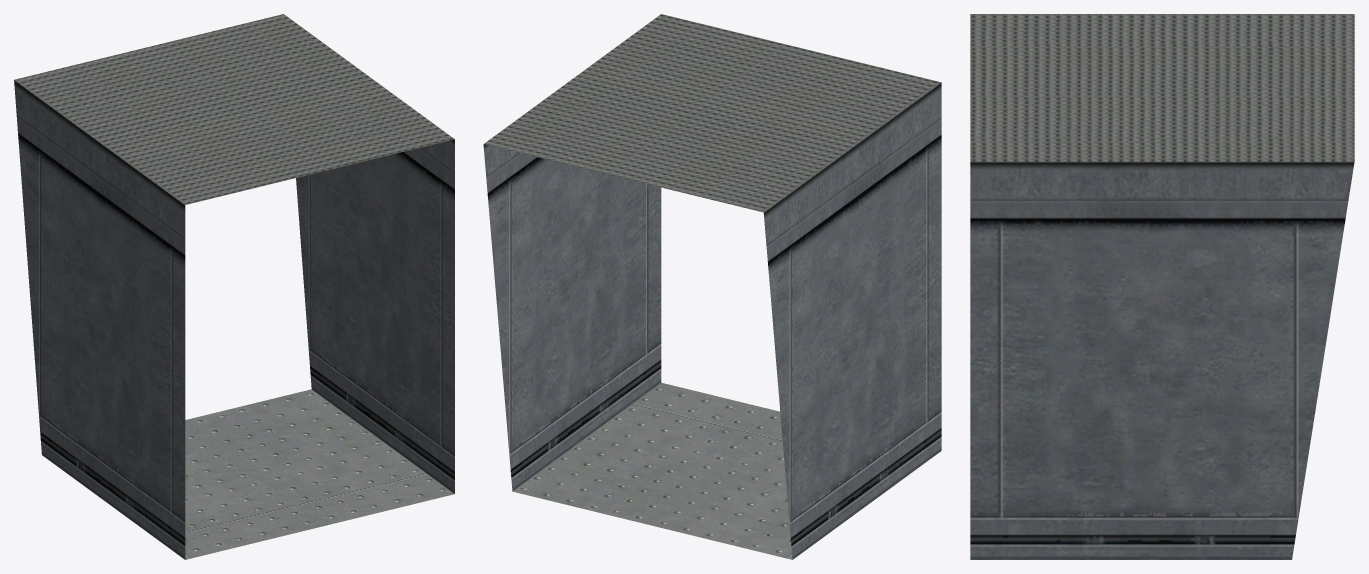
The model's file is thm_all_test_falcon_r1_entrance_mesh_r1.fbx.
The picture shows the model from 3 angles, left to right: view 1: azimuth 30°, elevation 25°; view 2: azimuth 150°, elevation 25°; view 3: azimuth 270°, elevation 25°; orthographic projection. The views are drawn at different scales.
Parts seen in each view (by area): view 1: mesh_node; view 2: mesh_node; view 3: mesh_node.
Part boxes in pixels (bbox=[...]): mesh_node: bbox=[14, 14, 454, 559]; mesh_node: bbox=[483, 14, 941, 559]; mesh_node: bbox=[970, 14, 1354, 559].
Bounding box in the file's own units: 2 × 2.51 × 2.2.
